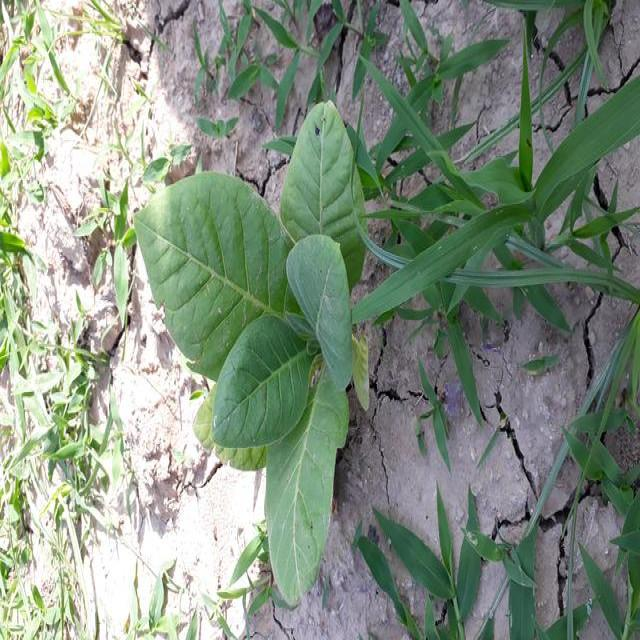crop: (140, 111, 374, 583)
